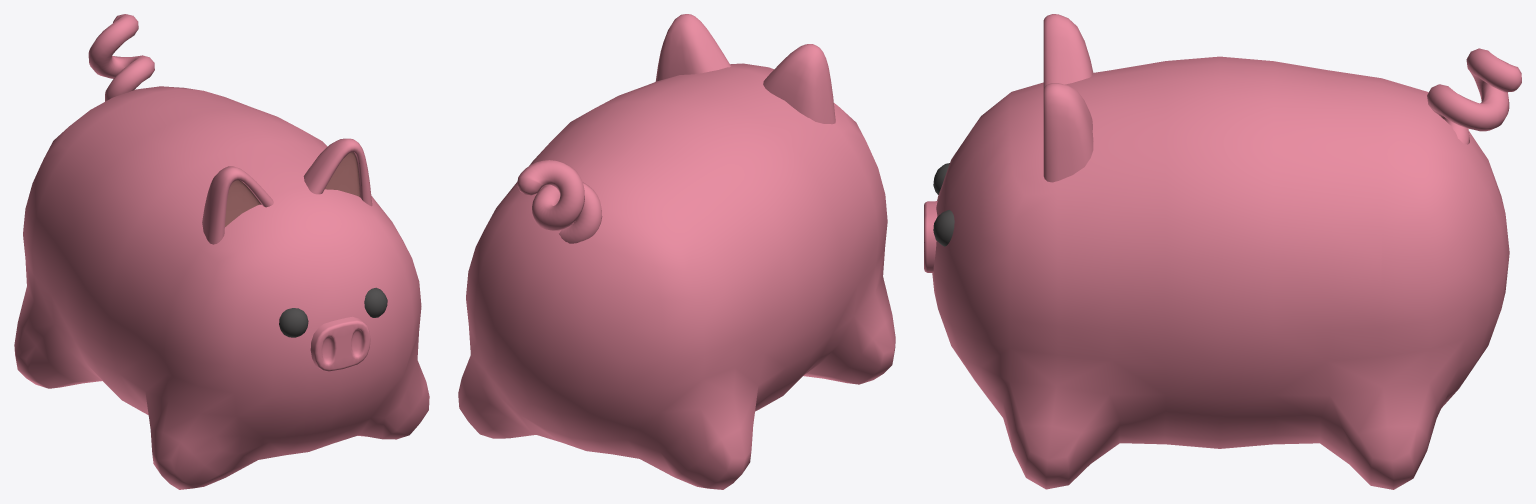
The model's file is Doll_pig.glb.
The picture shows the model from 3 angles, left to right: view 1: azimuth 30°, elevation 25°; view 2: azimuth 150°, elevation 25°; view 3: azimuth 270°, elevation 25°; orthographic projection. The views are drawn at different scales.
Parts seen in each view (by area): view 1: Toy_Pig_1; view 2: Toy_Pig_1; view 3: Toy_Pig_1.
Part boxes in pixels (x1=…): Toy_Pig_1: x1=14, y1=14, x2=429, y2=489; Toy_Pig_1: x1=458, y1=14, x2=895, y2=489; Toy_Pig_1: x1=924, y1=14, x2=1521, y2=489.
Bounding box in the file's own units: 0.4758 × 0.5173 × 0.7334.
Materials: 1 (1 with a texture image).
